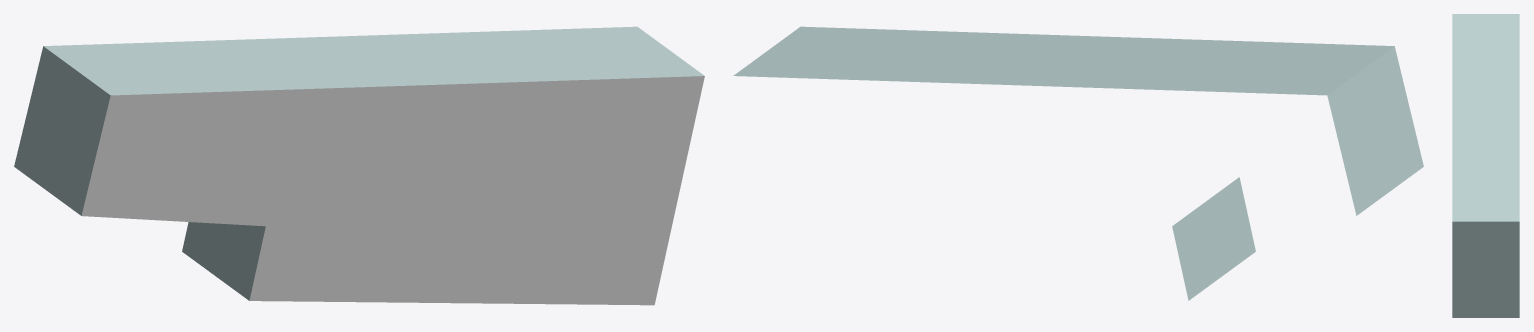
3 views of the same model, side by side, from view 1: azimuth 30°, elevation 25°; view 2: azimuth 150°, elevation 25°; view 3: azimuth 270°, elevation 25° (orthographic). The views are drawn at different scales.
Visible parts, largest first — view 1: 0_3_1_2_3_3_0_2_1; view 2: 0_3_1_2_3_3_0_2_1; view 3: 0_3_1_2_3_3_0_2_1.
Boxes of the visible parts, x1,y1,x2,y2 form: 0_3_1_2_3_3_0_2_1: [14, 26, 704, 305]; 0_3_1_2_3_3_0_2_1: [733, 26, 1423, 300]; 0_3_1_2_3_3_0_2_1: [1452, 14, 1519, 317].
Bounding box in the file's own units: 16.01 × 8.41 × 3.
